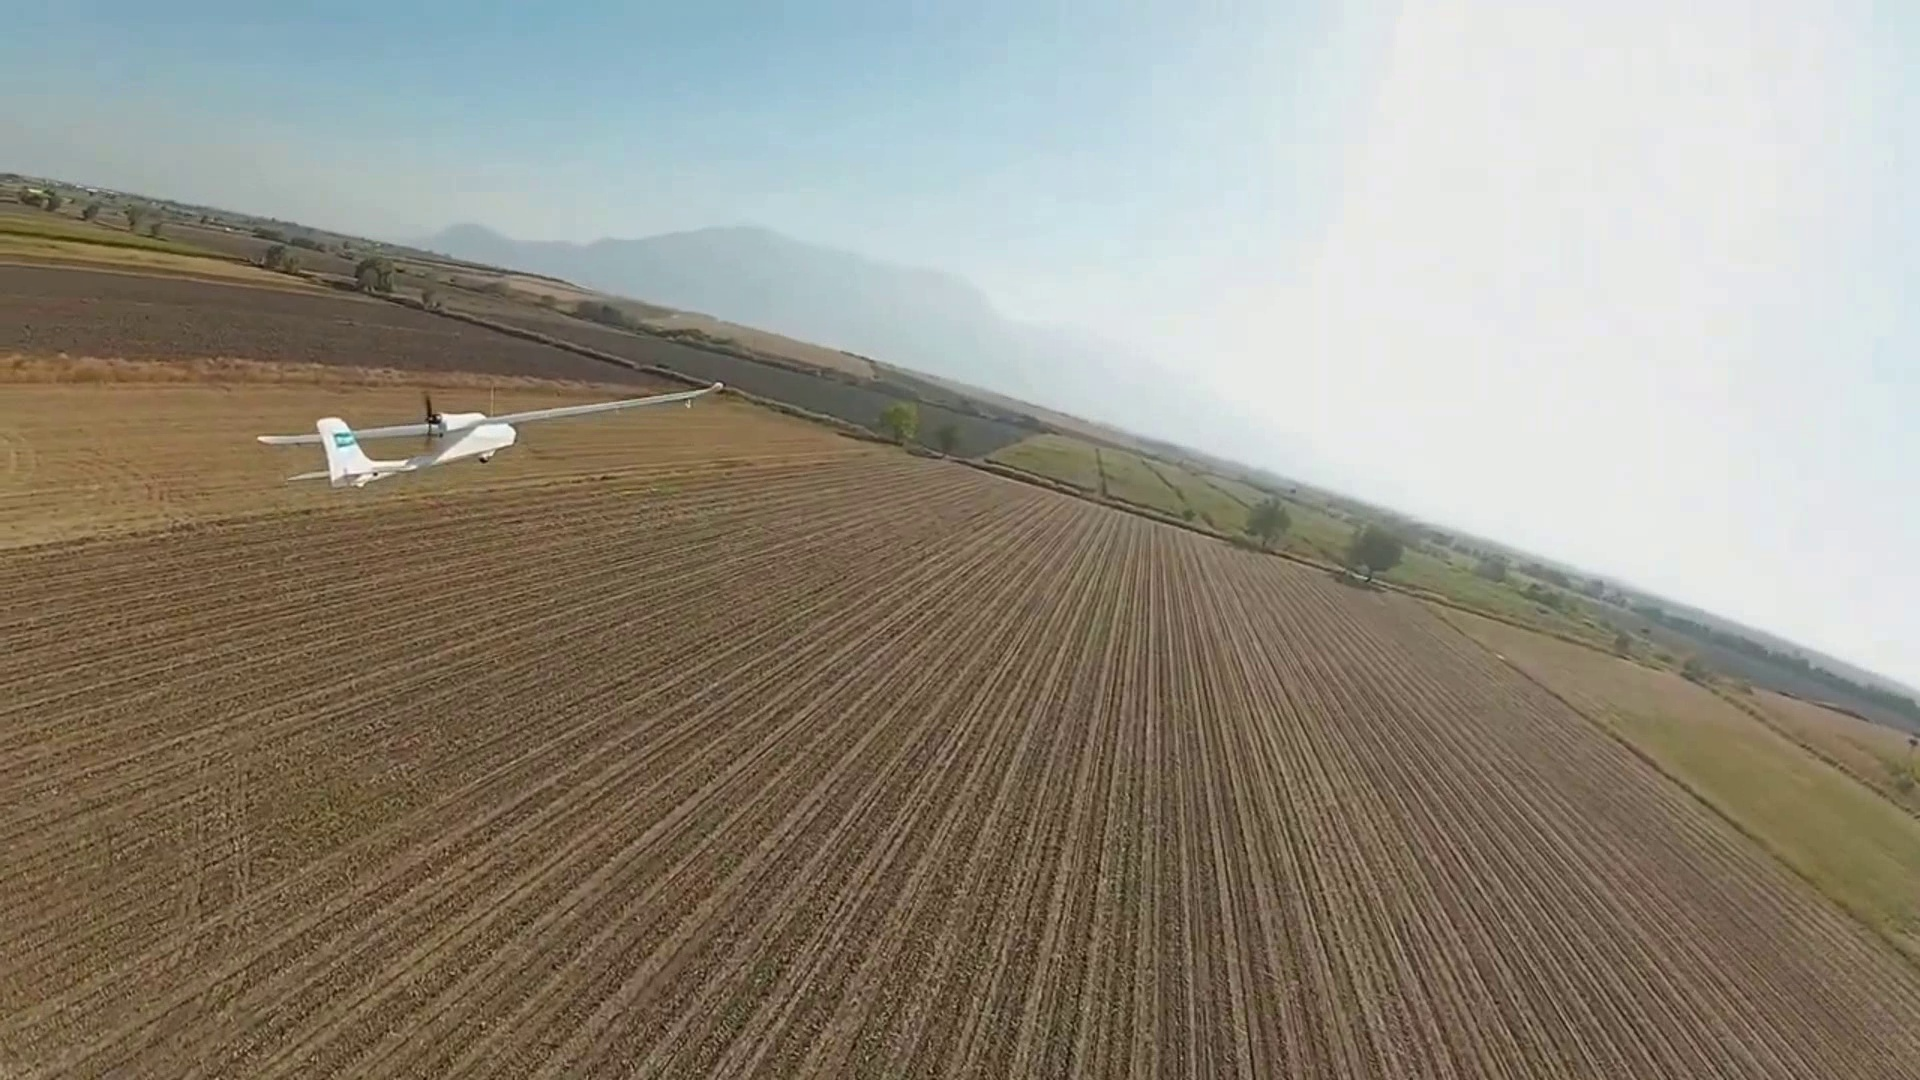airplane: (253, 400, 520, 487)
